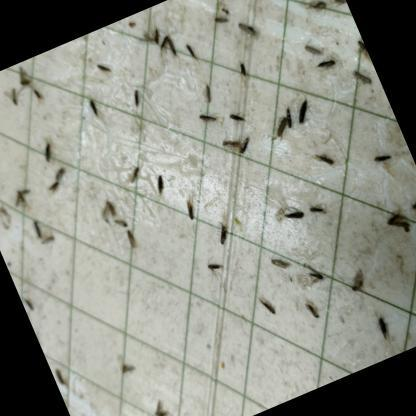prays_oleae: (342, 265, 379, 306), (376, 196, 412, 237), (309, 142, 344, 184), (286, 93, 322, 131), (156, 27, 186, 64), (348, 59, 376, 96), (210, 217, 240, 250), (193, 103, 225, 133), (297, 293, 326, 325), (298, 260, 328, 290), (298, 36, 330, 64), (202, 254, 231, 284), (349, 38, 374, 72), (123, 156, 151, 186), (266, 110, 292, 142), (2, 84, 32, 110), (128, 86, 154, 116), (278, 199, 306, 226), (252, 295, 282, 320), (265, 248, 292, 274), (82, 86, 107, 114), (152, 171, 176, 200), (9, 182, 34, 208), (234, 132, 258, 158), (138, 24, 166, 46), (146, 396, 176, 416), (312, 54, 338, 76), (368, 143, 394, 165), (226, 102, 248, 128), (278, 100, 298, 128), (122, 226, 143, 252), (38, 134, 58, 160), (198, 77, 218, 102), (13, 65, 38, 85), (43, 176, 65, 198), (304, 0, 329, 19), (181, 199, 202, 221), (221, 132, 242, 153), (235, 18, 257, 38), (99, 198, 119, 219), (405, 185, 416, 223), (183, 40, 202, 62), (95, 59, 114, 79), (119, 360, 138, 380), (29, 215, 46, 237), (306, 197, 326, 215), (328, 0, 349, 14), (22, 296, 40, 312), (51, 164, 68, 178), (113, 216, 128, 230)
